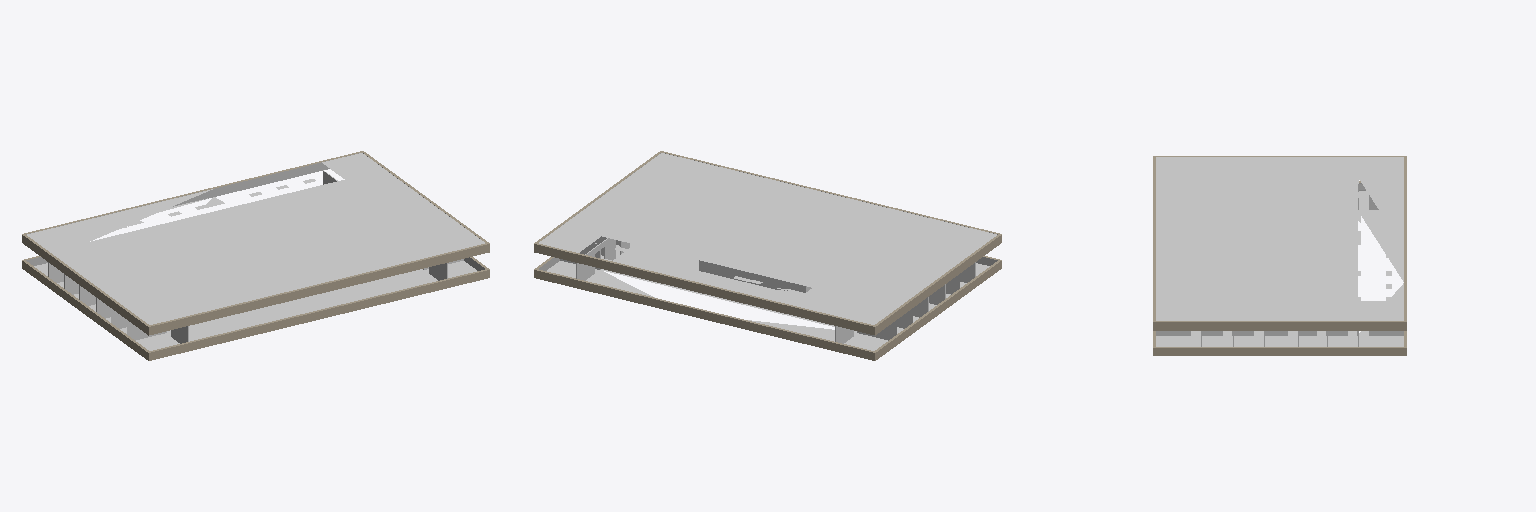
The model's file is Envelope_WWR50p_9ft.obj.
3 views of the same model, side by side, from view 1: azimuth 30°, elevation 25°; view 2: azimuth 150°, elevation 25°; view 3: azimuth 270°, elevation 25° (orthographic).
Visible parts, largest first — view 1: Envelope_WWR50p_9ft; view 2: Envelope_WWR50p_9ft; view 3: Envelope_WWR50p_9ft.
Part boxes in pixels (left/top/right/bottom): Envelope_WWR50p_9ft: left=22, top=151, right=489, bottom=360; Envelope_WWR50p_9ft: left=534, top=151, right=1001, bottom=360; Envelope_WWR50p_9ft: left=1153, top=156, right=1406, bottom=355.
Size of the model in its own units: 38.72 by 3.69 by 24.94.